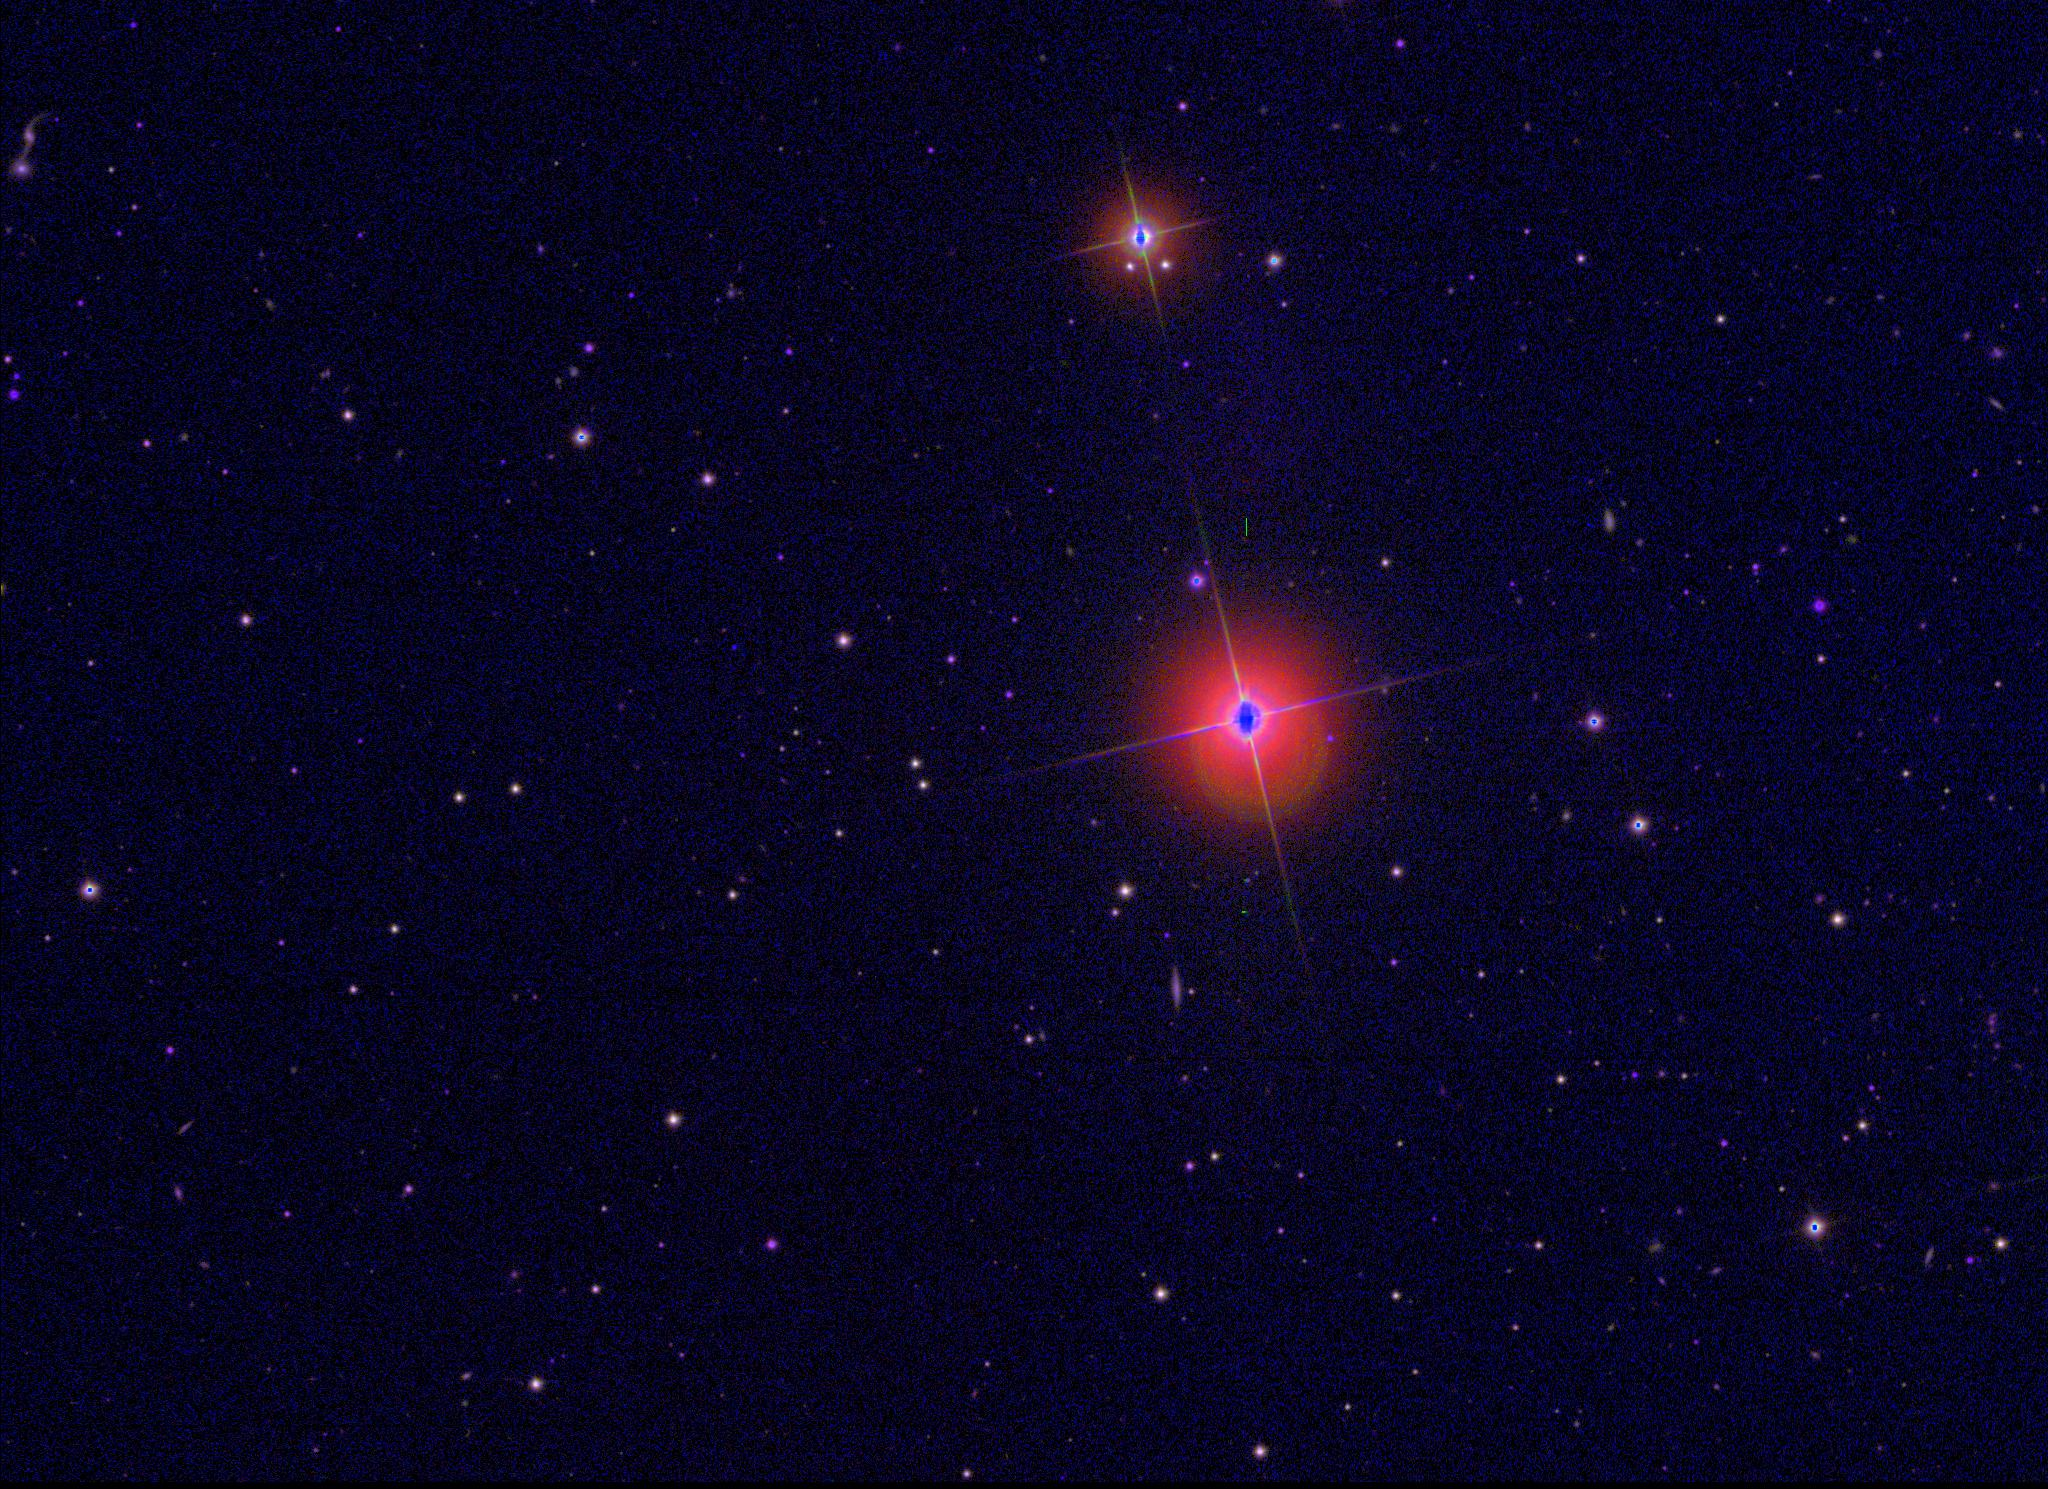L: (727, 641, 741, 655)
